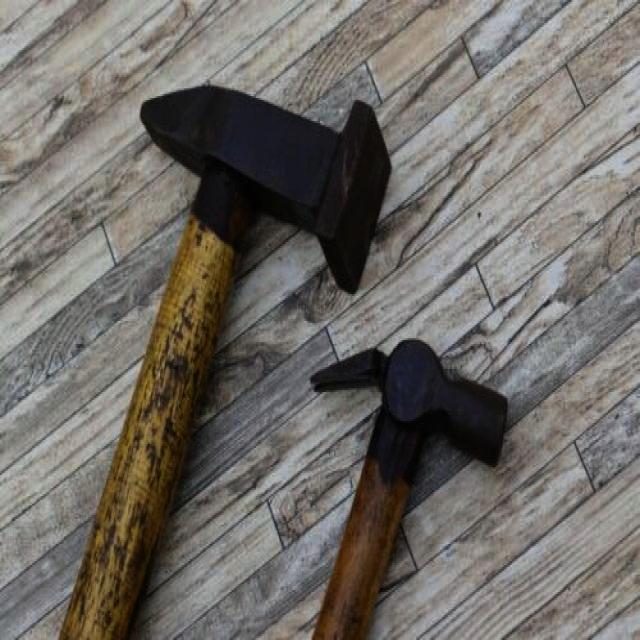hammer: (50, 73, 395, 640), (304, 328, 514, 640)
